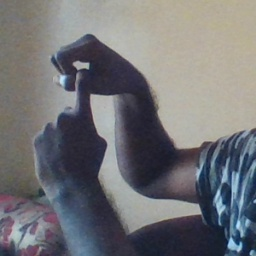Q: (32, 32, 133, 182)
